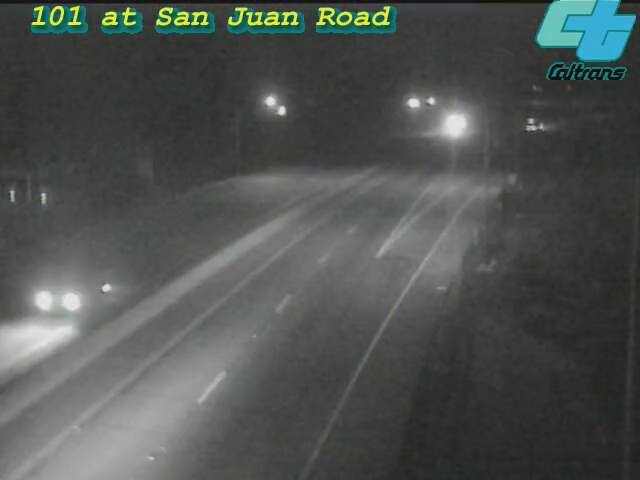vehicle: (20, 258, 100, 338), (426, 100, 476, 150), (510, 99, 560, 149)
